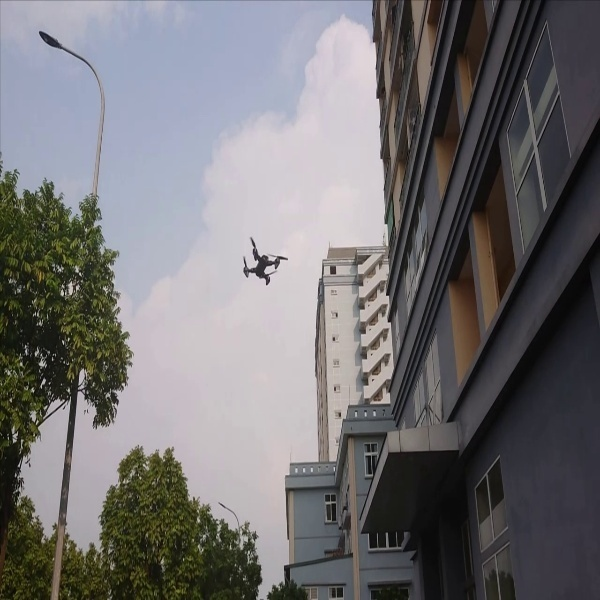drone: (228, 233, 294, 288)
